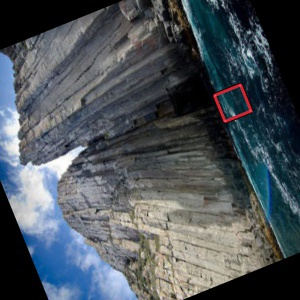square: (211, 83, 254, 124)
